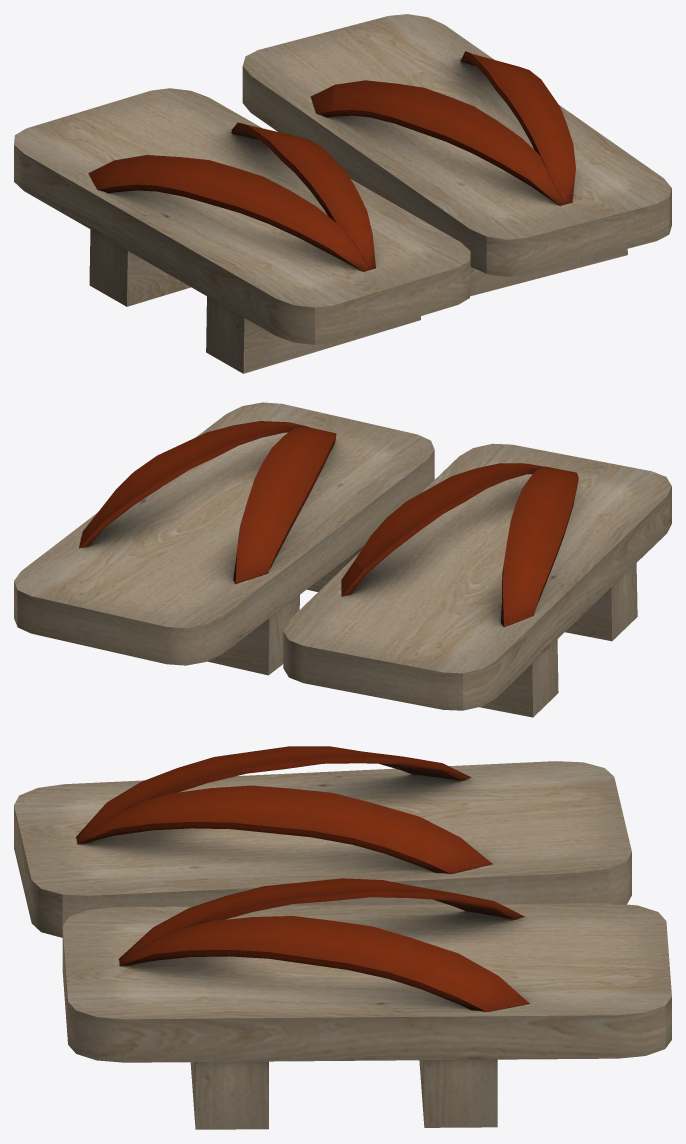
File: Clogs.a.fbx
The picture shows the model from 3 angles, top to bottom: view 1: azimuth 30°, elevation 25°; view 2: azimuth 150°, elevation 25°; view 3: azimuth 270°, elevation 25°; orthographic projection. The views are drawn at different scales.
Visible parts, largest first — view 1: Group 0; view 2: Group 0; view 3: Group 0.
Boxes of the visible parts, x1=… form: Group 0: x1=14, y1=14, x2=671, y2=373; Group 0: x1=14, y1=402, x2=671, y2=717; Group 0: x1=14, y1=746, x2=671, y2=1129.
Bounding box in the file's own units: 26.62 × 8.15 × 28.67.
1 material, 1 textured.
